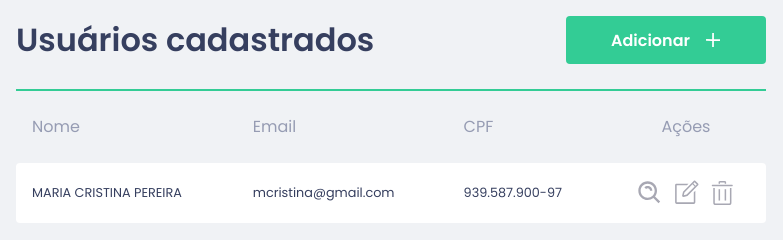
Test: example.spec.ts › should be able delete user
Click the button with id "delete-user" at coordinates (722, 193), box 708,179 -> 736,207
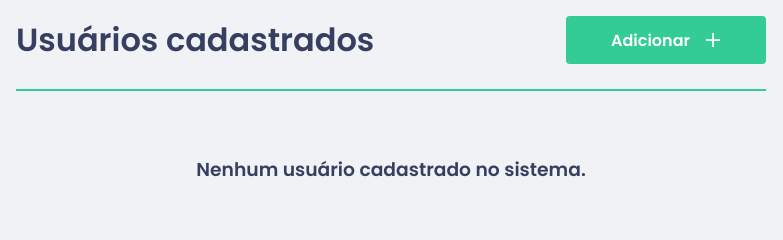
expect the heading "Nenhum usuário cadastrado no sistema." is shown: met, box 196,155 -> 586,184
